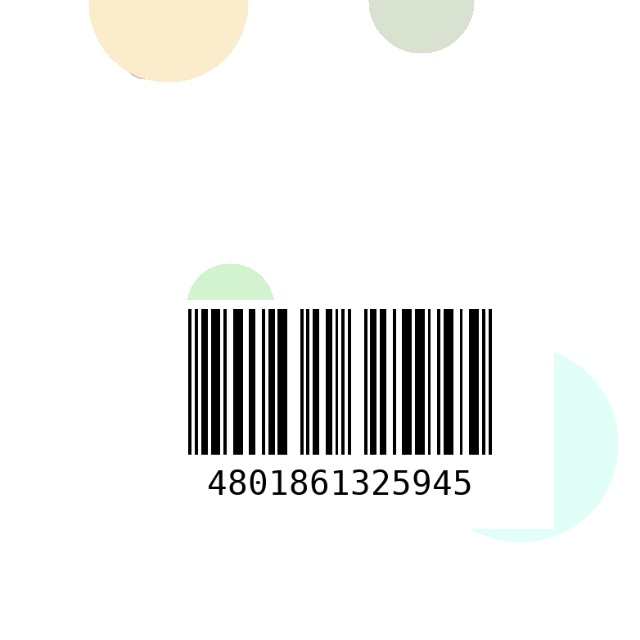barcode: (126, 300, 554, 529)
